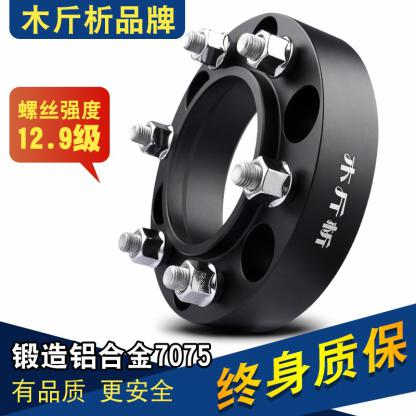FOD: (144, 8, 381, 338)
